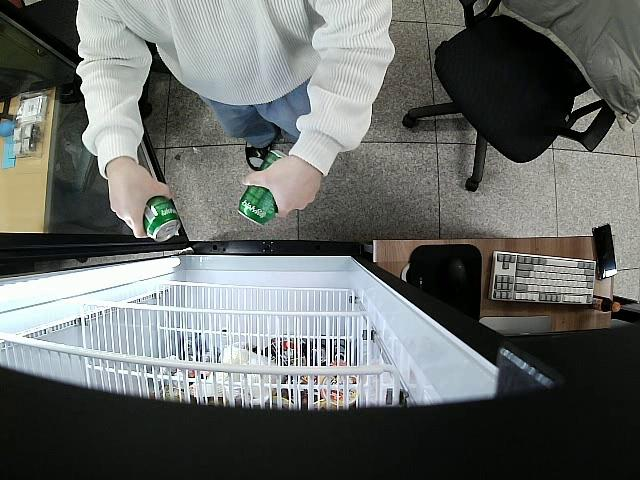00_hand: (106, 160, 174, 240), (242, 158, 322, 218)
12_chilsungCider: (235, 149, 291, 226), (141, 194, 181, 242)
